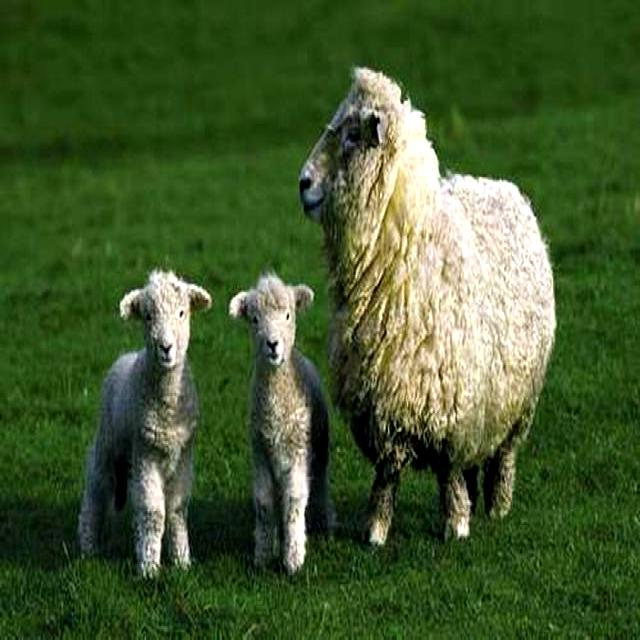sheep: (296, 62, 558, 549), (75, 272, 212, 581), (228, 267, 333, 579)
